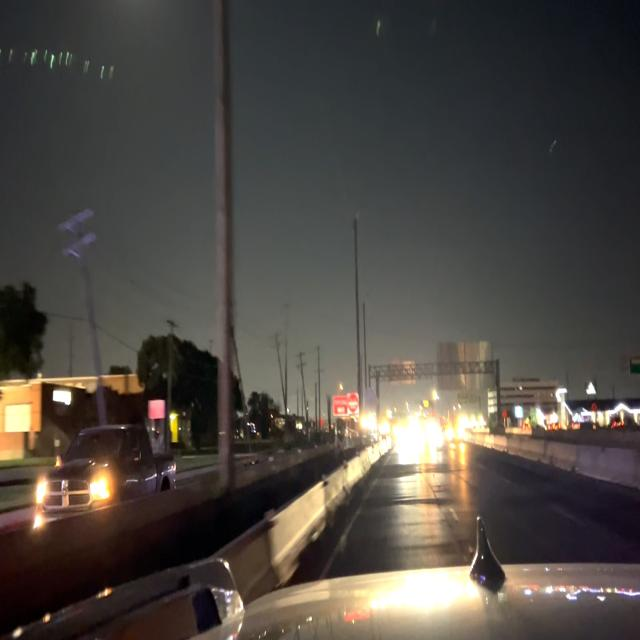back-of-sign: (439, 341, 495, 393)
